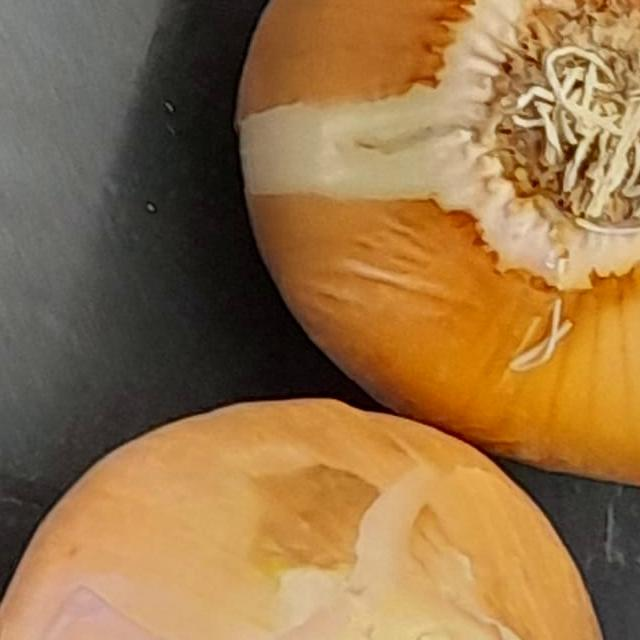onion: (176, 0, 640, 473), (0, 346, 640, 640)
